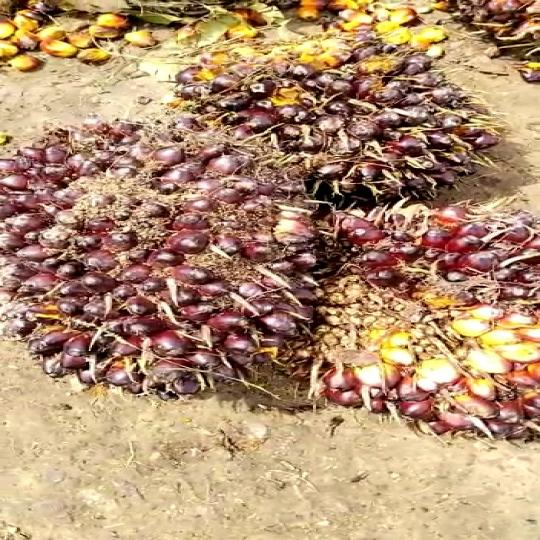kurang masak: (0, 109, 336, 400), (291, 194, 540, 451), (179, 33, 540, 206)
